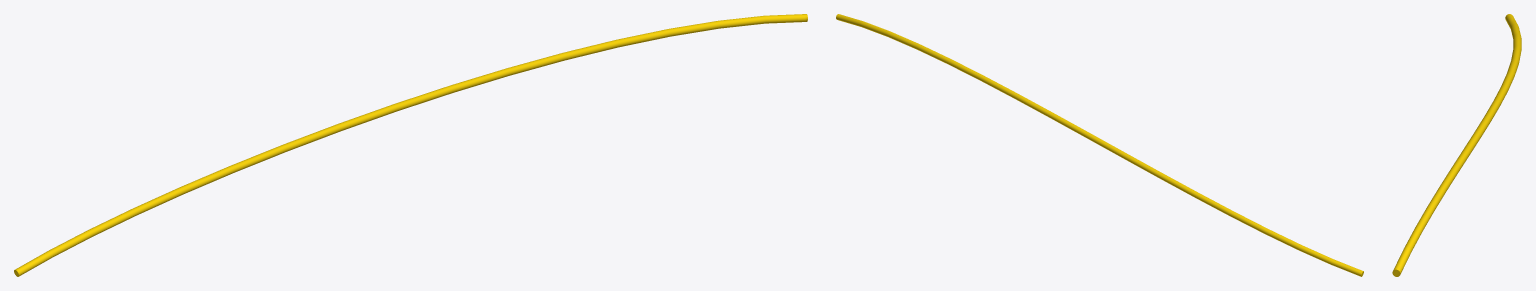
File: Event_420107950_track_63.fbx
3 renders of one model, left to right at view 1: azimuth 30°, elevation 25°; view 2: azimuth 150°, elevation 25°; view 3: azimuth 270°, elevation 25°, orthographic. The views are drawn at different scales.
Parts seen in each view (by area): view 1: Model; view 2: Model; view 3: Model.
Part boxes in pixels (box(x1,y1,x2,y2)): Model: box(14, 14, 807, 276); Model: box(836, 14, 1363, 276); Model: box(1392, 14, 1521, 276).
Bounding box in the file's own units: 4.25 × 0.698 × 0.6164.
